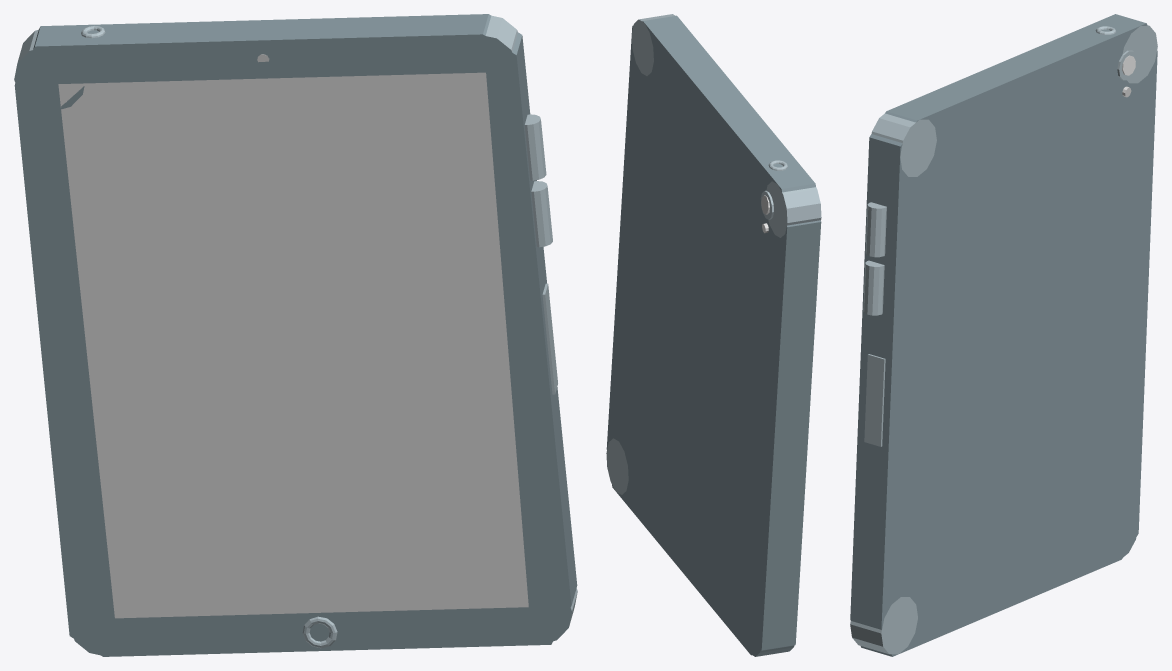
File: tablet_azul.fbx
3 renders of one model, left to right at view 1: azimuth 30°, elevation 25°; view 2: azimuth 150°, elevation 25°; view 3: azimuth 270°, elevation 25°, orthographic. The views are drawn at different scales.
Visible parts, largest first — view 1: group_2111228823; view 2: group_2111228823; view 3: group_2111228823.
Boxes of the visible parts, left/top/right/bottom form: group_2111228823: left=14, top=14, right=577, bottom=656; group_2111228823: left=606, top=14, right=821, bottom=656; group_2111228823: left=850, top=14, right=1157, bottom=656.
Bounding box in the file's own units: 13.19 × 19.61 × 10.03.
